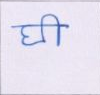i_matra: (42, 14, 65, 46)
